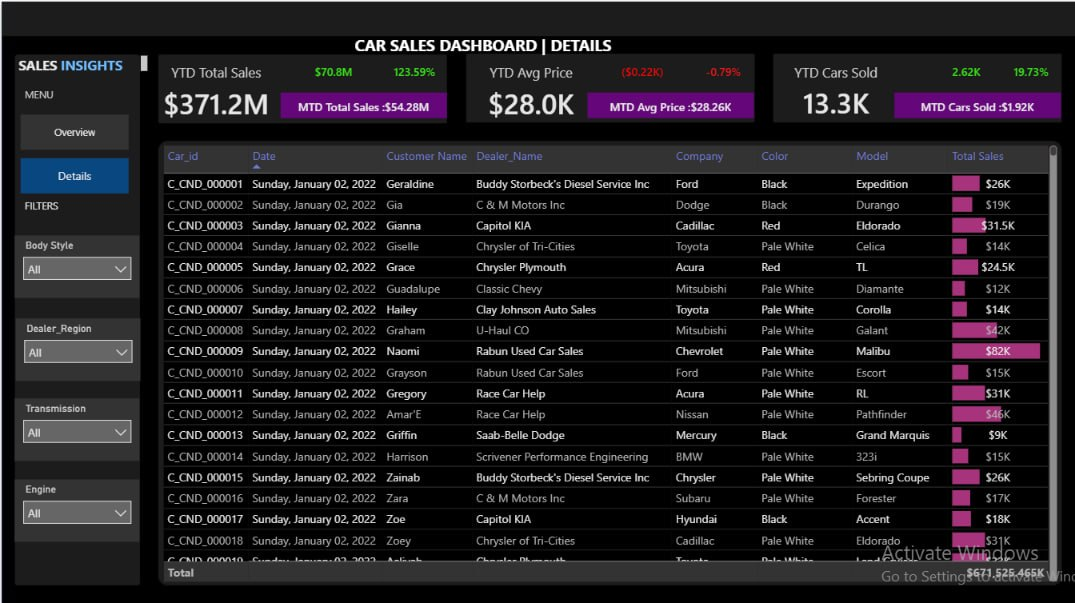

The page's visual inventory and layout, read from the dashboard file:
{"tool":"powerbi","page":{"name":"Details","canvas":[1280,720],"ordinal":1},"visuals":[{"type":"cardVisual","fields":{"Data":["car_data.YTD Total Sales"]},"box":[132.7,24,247.1,168.3],"z":0},{"type":"cardVisual","fields":{"Data":["car_data.Sales Difference"]},"box":[339.4,49,112.5,66.3],"z":1000},{"type":"cardVisual","fields":{"Data":["car_data.YoY Sales Growth"]},"box":[436.5,49,112.5,66.3],"z":2000},{"type":"cardVisual","fields":{"Data":["car_data.MTD KPI"]},"box":[332.7,108.7,198.1,30.8],"z":3000},{"type":"cardVisual","fields":{"Data":["car_data.YTD Avg Price"]},"box":[507.7,24,247.1,168.3],"z":4000},{"type":"cardVisual","fields":{"Data":["car_data.Avg Price Diff"]},"box":[707.7,49,112.5,66.3],"z":5000},{"type":"cardVisual","fields":{"Data":["car_data.YoY Avg Price Growth"]},"box":[804.8,49,112.5,66.3],"z":6000},{"type":"cardVisual","fields":{"Data":["car_data.MTD Avg Price KPI"]},"box":[699,108.7,198.1,30.8],"z":7000},{"type":"cardVisual","fields":{"Data":["car_data.YTD Cars Sold"]},"box":[871.3,24.1,247.2,167.6],"z":8000},{"type":"cardVisual","fields":{"Data":["car_data.Cars Sold Diff"]},"box":[1094.4,49.1,113,65.7],"z":9000},{"type":"cardVisual","fields":{"Data":["car_data.YoY Car Sold Growth"]},"box":[1176.9,49.1,102.8,65.7],"z":10000},{"type":"cardVisual","fields":{"Data":["car_data.MTD Cars Sold KPI"]},"box":[1064.8,108.3,198.1,30.6],"z":11000},{"type":"textbox","box":[416,34,471,40],"z":17000},{"type":"slicer","fields":{"Values":["car_data.Body Style"]},"box":[15,279,149,74],"z":18000},{"type":"slicer","fields":{"Values":["car_data.Dealer_Region"]},"box":[17,378,149,74],"z":19000},{"type":"slicer","fields":{"Values":["car_data.Transmission"]},"box":[15,473,149,74],"z":20000},{"type":"slicer","fields":{"Values":["car_data.Engine"]},"box":[16,570,149,74],"z":21000},{"type":"textbox","box":[23,229,67,34],"z":22000},{"type":"tableEx","fields":{"Values":["car_data.Car_id","car_data.Date","car_data.Customer Name","car_data.Dealer_Name","car_data.Company","car_data.Color","car_data.Model","Sum(car_data.Price ($))"]},"box":[187,167,1076,530],"z":22001},{"type":"textbox","box":[15,60,163,30],"z":22002},{"type":"textbox","box":[23,96,64,39],"z":22003},{"type":"pageNavigator","box":[23,135,129,94],"z":22004}]}

Visuals, with their boxes on the page's 1280x720 design canvas (x1, y1, x2, y2). These are canvas units, not pixel positions in the 1075x603 screenshot, which may show the page scaled, cropped or inside an application window:
cardVisual - car_data.YTD Total Sales: detection(133, 24, 380, 192)
cardVisual - car_data.Sales Difference: detection(339, 49, 452, 115)
cardVisual - car_data.YoY Sales Growth: detection(436, 49, 549, 115)
cardVisual - car_data.MTD KPI: detection(333, 109, 531, 140)
cardVisual - car_data.YTD Avg Price: detection(508, 24, 755, 192)
cardVisual - car_data.Avg Price Diff: detection(708, 49, 820, 115)
cardVisual - car_data.YoY Avg Price Growth: detection(805, 49, 917, 115)
cardVisual - car_data.MTD Avg Price KPI: detection(699, 109, 897, 140)
cardVisual - car_data.YTD Cars Sold: detection(871, 24, 1118, 192)
cardVisual - car_data.Cars Sold Diff: detection(1094, 49, 1207, 115)
cardVisual - car_data.YoY Car Sold Growth: detection(1177, 49, 1280, 115)
cardVisual - car_data.MTD Cars Sold KPI: detection(1065, 108, 1263, 139)
textbox: detection(416, 34, 887, 74)
slicer - car_data.Body Style: detection(15, 279, 164, 353)
slicer - car_data.Dealer_Region: detection(17, 378, 166, 452)
slicer - car_data.Transmission: detection(15, 473, 164, 547)
slicer - car_data.Engine: detection(16, 570, 165, 644)
textbox: detection(23, 229, 90, 263)
tableEx - car_data.Car_id x car_data.Date: detection(187, 167, 1263, 697)
textbox: detection(15, 60, 178, 90)
textbox: detection(23, 96, 87, 135)
pageNavigator: detection(23, 135, 152, 229)
